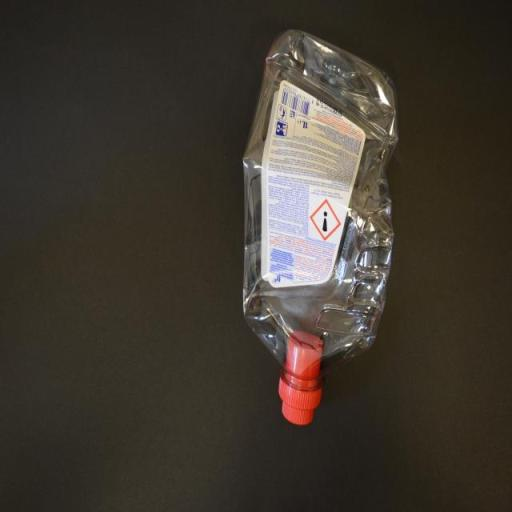plastic: (240, 26, 401, 426)
